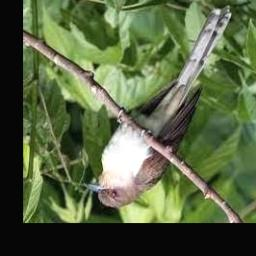Cuckoo: (85, 4, 232, 208)
